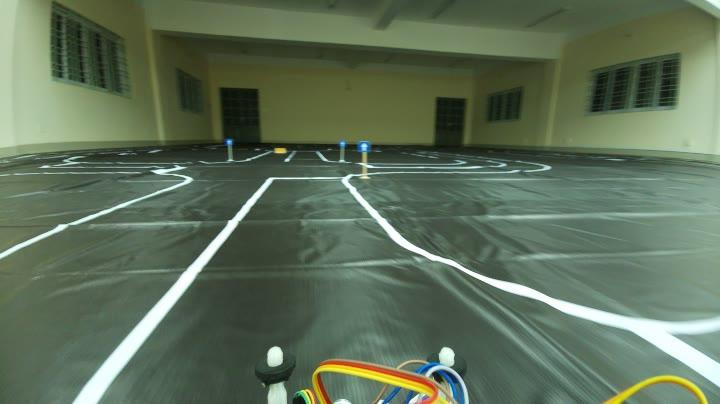onewayroad: (356, 137, 373, 157), (222, 136, 233, 146), (338, 139, 346, 148)
roadblock: (272, 147, 288, 153)
